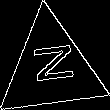N_W: (26, 46, 77, 91)
